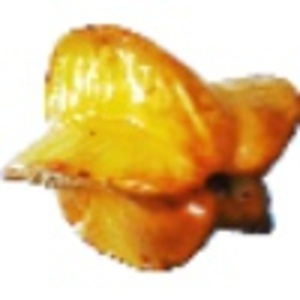carambola: (1, 23, 300, 276)
